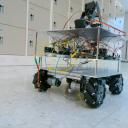cart: (32, 30, 128, 109)
